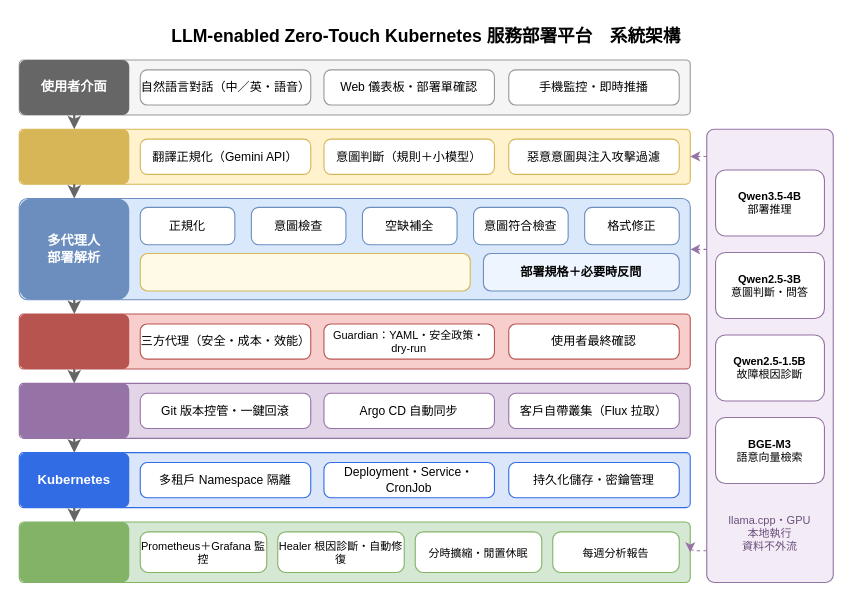
Some shapes in this 853 by 602 pixel diagram are drawn without their labels. The shapes that lost their labels are listed below. From the top down, each one's box as (x1, y1, x2, y2) in pixels, then its label:
(19, 129, 129, 184): 語意理解
(139, 252, 470, 291): RAG 知識檢索：軟體目錄・情境範例・K8s 官方文件
(19, 314, 129, 369): 安全審查
(706, 128, 833, 582): 本地 AI 模型
(19, 383, 129, 438): GitOps 部署
(19, 521, 129, 582): 監控與自癒
